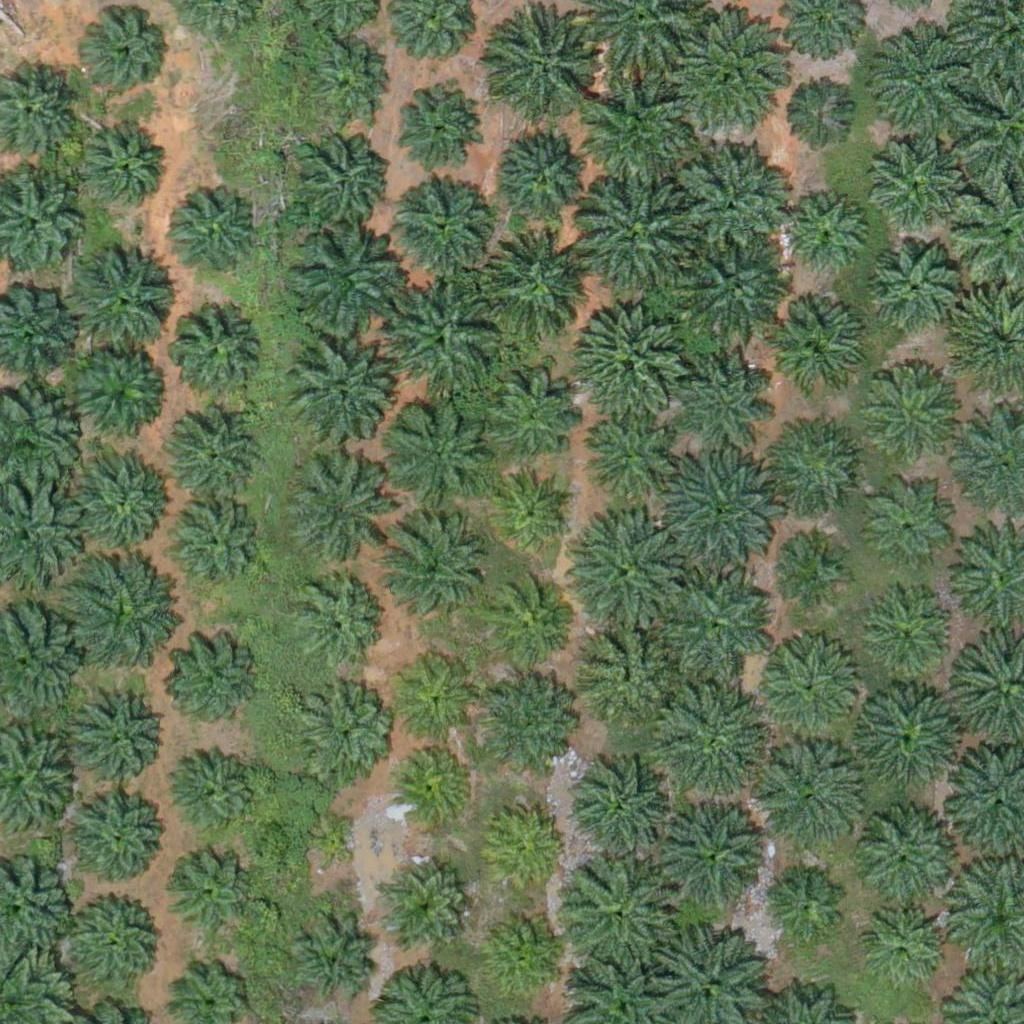Kelapa_Sawit: (563, 849, 688, 975), (851, 681, 964, 795), (680, 16, 793, 130), (476, 229, 589, 343), (869, 21, 982, 134), (756, 636, 869, 749), (658, 685, 771, 798), (662, 451, 775, 564), (583, 79, 696, 192), (574, 180, 687, 293), (571, 300, 684, 413), (469, 360, 582, 473), (68, 554, 181, 667), (579, 518, 691, 632), (381, 394, 493, 508), (378, 510, 490, 624), (287, 226, 399, 340), (753, 742, 865, 856), (661, 569, 773, 682), (680, 231, 792, 344), (675, 144, 787, 257), (386, 285, 498, 398), (62, 242, 174, 355), (653, 800, 765, 913), (858, 804, 970, 917), (678, 338, 778, 439), (498, 122, 598, 223), (282, 458, 382, 559), (158, 186, 258, 287), (163, 407, 263, 508), (164, 496, 264, 597), (73, 448, 173, 549), (65, 340, 165, 441), (767, 300, 867, 400), (582, 621, 682, 721), (493, 20, 593, 120), (395, 176, 495, 276), (291, 678, 391, 778), (286, 345, 386, 445), (291, 129, 391, 229), (167, 301, 267, 401), (67, 891, 167, 991), (481, 681, 569, 770), (488, 468, 576, 556), (864, 590, 952, 678), (868, 136, 956, 224), (778, 190, 866, 278), (577, 414, 665, 502), (480, 580, 568, 668), (389, 82, 477, 170), (291, 576, 379, 664), (75, 690, 163, 778), (74, 122, 162, 210), (391, 741, 479, 829), (172, 742, 259, 831), (871, 366, 958, 454), (870, 240, 957, 328), (772, 421, 859, 509), (393, 656, 480, 744), (309, 37, 396, 125), (168, 635, 255, 723), (84, 11, 171, 99), (78, 798, 165, 886), (578, 763, 665, 851), (779, 83, 854, 159), (490, 914, 565, 990), (874, 492, 949, 568), (387, 871, 462, 947), (488, 810, 563, 886), (773, 873, 848, 949), (171, 854, 246, 929), (305, 921, 380, 996), (870, 911, 945, 986), (781, 540, 844, 603), (302, 823, 352, 873)
